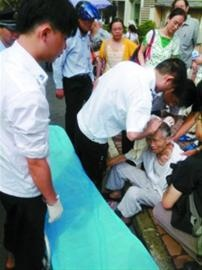falling: (98, 101, 190, 248)
